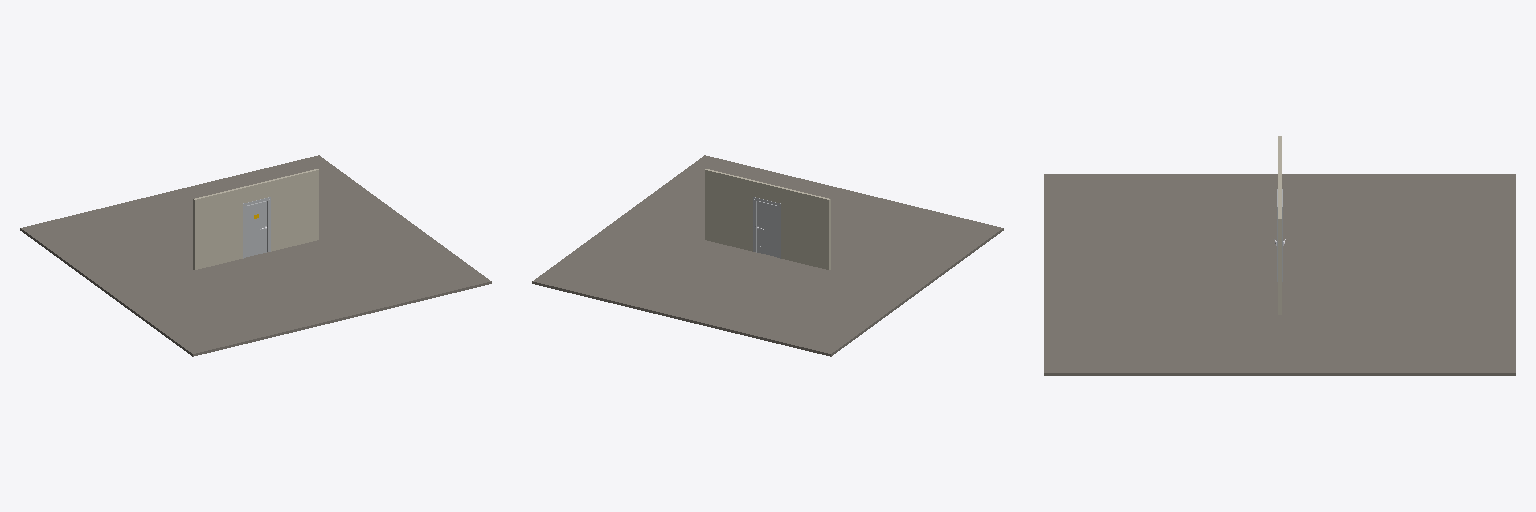
robot.urdf — db0852_cold_storage_full:
<?xml version="1.0" ?>
<robot xmlns:doorbench="https://github.com/adamraudonis/DoorBench/schema/urdf-ext" name="db0852_cold_storage_full">
  <link name="world_env">
    <visual name="floor_vis">
      <origin xyz="0 0 -0.05" rpy="0 0 0"/>
      <geometry>
        <box size="12 12 0.1"/>
      </geometry>
      <material name="mat_floor"/>
    </visual>
    <collision name="floor_col">
      <origin xyz="0 0 -0.05" rpy="0 0 0"/>
      <geometry>
        <box size="12 12 0.1"/>
      </geometry>
    </collision>
    <visual name="wall_left_vis">
      <origin xyz="-1.4925 0 1.35" rpy="0 0 0"/>
      <geometry>
        <box size="2.015 0.1 2.7"/>
      </geometry>
      <material name="mat_wall"/>
    </visual>
    <collision name="wall_left_col">
      <origin xyz="-1.4925 0 1.35" rpy="0 0 0"/>
      <geometry>
        <box size="2.015 0.1 2.7"/>
      </geometry>
    </collision>
    <visual name="wall_right_vis">
      <origin xyz="1.5075 0 1.35" rpy="0 0 0"/>
      <geometry>
        <box size="1.985 0.1 2.7"/>
      </geometry>
      <material name="mat_wall"/>
    </visual>
    <collision name="wall_right_col">
      <origin xyz="1.5075 0 1.35" rpy="0 0 0"/>
      <geometry>
        <box size="1.985 0.1 2.7"/>
      </geometry>
    </collision>
    <visual name="wall_header_vis">
      <origin xyz="0.015 0 2.3875" rpy="0 0 0"/>
      <geometry>
        <box size="1 0.1 0.625"/>
      </geometry>
      <material name="mat_wall"/>
    </visual>
    <collision name="wall_header_col">
      <origin xyz="0.015 0 2.3875" rpy="0 0 0"/>
      <geometry>
        <box size="1 0.1 0.625"/>
      </geometry>
    </collision>
    <visual name="hinge_0_jamb_vis">
      <origin xyz="-0.437 -0.057 0.262" rpy="0 0 0"/>
      <geometry>
        <mesh filename="../../hardware/hinge_jamb_953fb56768.obj"/>
      </geometry>
      <material name="mat_hinge"/>
    </visual>
    <visual name="hinge_1_jamb_vis">
      <origin xyz="-0.437 -0.057 1.7964" rpy="0 0 0"/>
      <geometry>
        <mesh filename="../../hardware/hinge_jamb_953fb56768.obj"/>
      </geometry>
      <material name="mat_hinge"/>
    </visual>
    <visual name="jamb_hinge_vis">
      <origin xyz="-0.4625 0 1" rpy="0 0 0"/>
      <geometry>
        <box size="0.045 0.1 2"/>
      </geometry>
      <material name="mat_frame"/>
    </visual>
    <collision name="jamb_hinge_col">
      <origin xyz="-0.4625 0 1" rpy="0 0 0"/>
      <geometry>
        <box size="0.045 0.1 2"/>
      </geometry>
    </collision>
    <visual name="strike_1000_wall_n_vis">
      <origin xyz="0.4775 0.02875 1" rpy="0 0 0"/>
      <geometry>
        <box size="0.075 0.0425 0.038"/>
      </geometry>
      <material name="mat_frame"/>
    </visual>
    <collision name="strike_1000_wall_n_col">
      <origin xyz="0.4775 0.02875 1" rpy="0 0 0"/>
      <geometry>
        <box size="0.075 0.0425 0.038"/>
      </geometry>
    </collision>
    <visual name="strike_1000_wall_p_vis">
      <origin xyz="0.4775 -0.0155 1" rpy="0 0 0"/>
      <geometry>
        <box size="0.075 0.016 0.038"/>
      </geometry>
      <material name="mat_frame"/>
    </visual>
    <collision name="strike_1000_wall_p_col">
      <origin xyz="0.4775 -0.0155 1" rpy="0 0 0"/>
      <geometry>
        <box size="0.075 0.016 0.038"/>
      </geometry>
    </collision>
    <visual name="strike_1000_ramp_vis">
      <origin xyz="0.480582 -0.041168 1" rpy="0 0 0.149416"/>
      <geometry>
        <box size="0.075 0.047024 0.038"/>
      </geometry>
      <material name="mat_frame"/>
    </visual>
    <collision name="strike_1000_ramp_col">
      <origin xyz="0.480582 -0.041168 1" rpy="0 0 0.149416"/>
      <geometry>
        <box size="0.075 0.047024 0.038"/>
      </geometry>
    </collision>
    <visual name="strike_1000_ramp_n_vis">
      <origin xyz="0.480582 0.029168 1" rpy="0 0 -0.149416"/>
      <geometry>
        <box size="0.075 0.047024 0.038"/>
      </geometry>
      <material name="mat_frame"/>
    </visual>
    <collision name="strike_1000_ramp_n_col">
      <origin xyz="0.480582 0.029168 1" rpy="0 0 -0.149416"/>
      <geometry>
        <box size="0.075 0.047024 0.038"/>
      </geometry>
    </collision>
    <visual name="strike_1000_back_vis">
      <origin xyz="0.4825 0 1" rpy="0 0 0"/>
      <geometry>
        <box size="0.065 0.015 0.038"/>
      </geometry>
      <material name="mat_frame"/>
    </visual>
    <collision name="strike_1000_back_col">
      <origin xyz="0.4825 0 1" rpy="0 0 0"/>
      <geometry>
        <box size="0.065 0.015 0.038"/>
      </geometry>
    </collision>
    <visual name="jamb_strike_0_vis">
      <origin xyz="0.4775 0 0.4905" rpy="0 0 0"/>
      <geometry>
        <box size="0.075 0.1 0.981"/>
      </geometry>
      <material name="mat_frame"/>
    </visual>
    <collision name="jamb_strike_0_col">
      <origin xyz="0.4775 0 0.4905" rpy="0 0 0"/>
      <geometry>
        <box size="0.075 0.1 0.981"/>
      </geometry>
    </collision>
    <visual name="jamb_strike_1_vis">
      <origin xyz="0.4775 0 1.5095" rpy="0 0 0"/>
      <geometry>
        <box size="0.075 0.1 0.981"/>
      </geometry>
      <material name="mat_frame"/>
    </visual>
    <collision name="jamb_strike_1_col">
      <origin xyz="0.4775 0 1.5095" rpy="0 0 0"/>
      <geometry>
        <box size="0.075 0.1 0.981"/>
      </geometry>
    </collision>
    <visual name="jamb_head_vis">
      <origin xyz="0.015 0 2.0225" rpy="0 0 0"/>
      <geometry>
        <box size="1 0.1 0.045"/>
      </geometry>
      <material name="mat_frame"/>
    </visual>
    <collision name="jamb_head_col">
      <origin xyz="0.015 0 2.0225" rpy="0 0 0"/>
      <geometry>
        <box size="1 0.1 0.045"/>
      </geometry>
    </collision>
    <visual name="head_stud_vis">
      <origin xyz="0.015 0 2.06" rpy="0 0 0"/>
      <geometry>
        <box size="1 0.1 0.03"/>
      </geometry>
      <material name="mat_wall"/>
    </visual>
    <collision name="head_stud_col">
      <origin xyz="0.015 0 2.06" rpy="0 0 0"/>
      <geometry>
        <box size="1 0.1 0.03"/>
      </geometry>
    </collision>
    <visual name="stop_hinge_vis">
      <origin xyz="-0.4345 0.0665 1" rpy="0 0 0"/>
      <geometry>
        <box size="0.011 0.032 2"/>
      </geometry>
      <material name="mat_frame"/>
    </visual>
    <collision name="stop_hinge_col">
      <origin xyz="-0.4345 0.0665 1" rpy="0 0 0"/>
      <geometry>
        <box size="0.011 0.032 2"/>
      </geometry>
    </collision>
    <visual name="stop_strike_vis">
      <origin xyz="0.4345 0.0665 1" rpy="0 0 0"/>
      <geometry>
        <box size="0.011 0.032 2"/>
      </geometry>
      <material name="mat_frame"/>
    </visual>
    <collision name="stop_strike_col">
      <origin xyz="0.4345 0.0665 1" rpy="0 0 0"/>
      <geometry>
        <box size="0.011 0.032 2"/>
      </geometry>
    </collision>
    <visual name="stop_head_vis">
      <origin xyz="0 0.0665 1.9945" rpy="0 0 0"/>
      <geometry>
        <box size="0.88 0.032 0.011"/>
      </geometry>
      <material name="mat_frame"/>
    </visual>
    <collision name="stop_head_col">
      <origin xyz="0 0.0665 1.9945" rpy="0 0 0"/>
      <geometry>
        <box size="0.88 0.032 0.011"/>
      </geometry>
    </collision>
    <visual name="seal_hinge_vis">
      <origin xyz="-0.437 0.055 1" rpy="0 0 0"/>
      <geometry>
        <box size="0.008 0.01 2"/>
      </geometry>
      <material name="mat_seal"/>
    </visual>
    <visual name="seal_strike_vis">
      <origin xyz="0.437 0.055 1" rpy="0 0 0"/>
      <geometry>
        <box size="0.008 0.01 2"/>
      </geometry>
      <material name="mat_seal"/>
    </visual>
    <visual name="seal_head_vis">
      <origin xyz="0 0.055 1.988" rpy="0 0 0"/>
      <geometry>
        <box size="0.84 0.01 0.016"/>
      </geometry>
      <material name="mat_seal"/>
    </visual>
    <visual name="casing_l_n_vis">
      <origin xyz="-0.515 -0.058 1" rpy="0 0 0"/>
      <geometry>
        <box size="0.07 0.016 2.045"/>
      </geometry>
      <material name="mat_frame"/>
    </visual>
    <visual name="casing_r_n_vis">
      <origin xyz="0.515 -0.058 1" rpy="0 0 0"/>
      <geometry>
        <box size="0.07 0.016 2.045"/>
      </geometry>
      <material name="mat_frame"/>
    </visual>
    <visual name="casing_h_n_vis">
      <origin xyz="0 -0.058 2.075" rpy="0 0 0"/>
      <geometry>
        <box size="1.1 0.016 0.07"/>
      </geometry>
      <material name="mat_frame"/>
    </visual>
    <visual name="casing_l_p_vis">
      <origin xyz="-0.515 0.058 1" rpy="0 0 0"/>
      <geometry>
        <box size="0.07 0.016 2.045"/>
      </geometry>
      <material name="mat_frame"/>
    </visual>
    <visual name="casing_r_p_vis">
      <origin xyz="0.515 0.058 1" rpy="0 0 0"/>
      <geometry>
        <box size="0.07 0.016 2.045"/>
      </geometry>
      <material name="mat_frame"/>
    </visual>
    <visual name="casing_h_p_vis">
      <origin xyz="0 0.058 2.075" rpy="0 0 0"/>
      <geometry>
        <box size="1.1 0.016 0.07"/>
      </geometry>
      <material name="mat_frame"/>
    </visual>
  </link>
  <link name="leaf_riser">
    <inertial>
      <origin xyz="0.003 -0.057 0.055" rpy="0 0 0"/>
      <mass value="0.174012"/>
      <inertia ixx="0.00002732" ixy="0" ixz="0" iyy="0.00002732" iyz="0" izz="0.000017053"/>
    </inertial>
    <visual name="leaf_riser_marker_vis">
      <origin xyz="0.003 -0.057 0.055" rpy="0 0 0"/>
      <geometry>
        <cylinder radius="0.014" length="0.036"/>
      </geometry>
      <material name="mat_hinge"/>
    </visual>
  </link>
  <link name="leaf">
    <inertial>
      <origin xyz="0.412167 0.057822 0.946435" rpy="0 0 0"/>
      <mass value="40.829812"/>
      <inertia ixx="14.499900397" ixy="-0.037367119" ixz="0.060262156" iyy="17.147012135" iyz="0.106824101" izz="2.730307981"/>
    </inertial>
    <visual name="leaf_slab_vis">
      <origin xyz="0.43 0.057 0.9942" rpy="0 0 0"/>
      <geometry>
        <box size="0.86 0.1 1.9644"/>
      </geometry>
      <material name="mat_leaf"/>
    </visual>
    <collision name="leaf_slab_col">
      <origin xyz="0.43 0.057 0.9942" rpy="0 0 0"/>
      <geometry>
        <box size="0.86 0.1 1.9644"/>
      </geometry>
    </collision>
    <visual name="hinge_0_vis">
      <origin xyz="0 0 0.262" rpy="0 0 0"/>
      <geometry>
        <mesh filename="../../hardware/hinge_05d9a38dfa.obj"/>
      </geometry>
      <material name="mat_hinge"/>
    </visual>
    <visual name="hinge_1_vis">
      <origin xyz="0 0 1.7964" rpy="0 0 0"/>
      <geometry>
        <mesh filename="../../hardware/hinge_05d9a38dfa.obj"/>
      </geometry>
      <material name="mat_hinge"/>
    </visual>
    <visual name="kick_plate_p_vis">
      <origin xyz="0.43 0.1078 0.147" rpy="0 0 0"/>
      <geometry>
        <box size="0.8 0.0016 0.25"/>
      </geometry>
      <material name="mat_kick"/>
    </visual>
    <visual name="warning_placard_vis">
      <origin xyz="0.43 0.006 1.4853" rpy="0 0 0"/>
      <geometry>
        <box size="0.22 0.002 0.16"/>
      </geometry>
      <material name="mat_placard"/>
    </visual>
  </link>
  <link name="leaf_handle">
    <inertial>
      <origin xyz="-0.046153 0 0" rpy="0 0 0"/>
      <mass value="2.987827"/>
      <inertia ixx="0.023746754" ixy="0" ixz="0" iyy="0.018437997" iyz="0" izz="0.040214564"/>
    </inertial>
    <visual name="leaf_handle_spindle_vis">
      <origin xyz="0 0 0" rpy="-1.570796 0 0"/>
      <geometry>
        <cylinder radius="0.006" length="0.116"/>
      </geometry>
      <material name="mat_op_chrome"/>
    </visual>
    <visual name="leaf_handle_lever_n_vis">
      <origin xyz="0 -0.05 0" rpy="1.570796 0 0"/>
      <geometry>
        <mesh filename="../../hardware/lever_40740b93f7.obj"/>
      </geometry>
      <material name="mat_op_chrome"/>
    </visual>
    <collision name="leaf_handle_lever_col_n_col">
      <origin xyz="-0.125 -0.105 0" rpy="0 -1.570796 0"/>
      <geometry>
        <cylinder radius="0.0095" length="0.231"/>
      </geometry>
    </collision>
    <collision name="leaf_handle_hub_col_n_col">
      <origin xyz="0 -0.08 0" rpy="-1.570796 0 0"/>
      <geometry>
        <cylinder radius="0.012" length="0.044"/>
      </geometry>
    </collision>
    <visual name="leaf_handle_lever_p_vis">
      <origin xyz="0 0.05 0" rpy="-1.570796 0 0"/>
      <geometry>
        <mesh filename="../../hardware/lever_40740b93f7.obj"/>
      </geometry>
      <material name="mat_op_chrome"/>
    </visual>
    <collision name="leaf_handle_lever_col_p_col">
      <origin xyz="-0.125 0.105 0" rpy="0 -1.570796 0"/>
      <geometry>
        <cylinder radius="0.0095" length="0.231"/>
      </geometry>
    </collision>
    <collision name="leaf_handle_hub_col_p_col">
      <origin xyz="0 0.08 0" rpy="-1.570796 0 0"/>
      <geometry>
        <cylinder radius="0.012" length="0.044"/>
      </geometry>
    </collision>
  </link>
  <link name="leaf_latch_bolt">
    <inertial>
      <origin xyz="-0.012 0 0" rpy="0 0 0"/>
      <mass value="0.030762"/>
      <inertia ixx="0.000000526" ixy="0" ixz="0" iyy="0.000002949" iyz="0" izz="0.000002949"/>
    </inertial>
    <visual name="leaf_latch_bolt_capsule_vis">
      <origin xyz="-0.012 0 0" rpy="0 1.570796 0"/>
      <geometry>
        <cylinder radius="0.006" length="0.024"/>
      </geometry>
      <material name="mat_bolt"/>
    </visual>
    <collision name="leaf_latch_bolt_capsule_col">
      <origin xyz="-0.012 0 0" rpy="0 1.570796 0"/>
      <geometry>
        <cylinder radius="0.006" length="0.024"/>
      </geometry>
    </collision>
  </link>
  <joint name="leaf_rise" type="prismatic">
    <origin xyz="-0.44 0 0" rpy="0 0 0"/>
    <parent link="world_env"/>
    <child link="leaf_riser"/>
    <axis xyz="0 0 1"/>
    <limit lower="0" upper="0.0264" effort="5000" velocity="10"/>
    <dynamics damping="1" friction="0"/>
    <mimic joint="leaf_hinge" multiplier="0.007639" offset="0"/>
  </joint>
  <joint name="leaf_hinge" type="revolute">
    <origin xyz="0.003 -0.057 0" rpy="0 0 0"/>
    <parent link="leaf_riser"/>
    <child link="leaf"/>
    <axis xyz="0 0 -1"/>
    <limit lower="0" upper="1.919862" effort="2000" velocity="10"/>
    <dynamics damping="0.245604" friction="3.598128"/>
    <doorbench:closer damping_closing="0" damping_opening="0" backcheck_angle="0" backcheck_damping="0"/>
    <doorbench:note text="rising hinge: gravity closing torque ~ m*g*0.0076 N*m/rad"/>
  </joint>
  <joint name="leaf_handle_hinge" type="revolute">
    <origin xyz="0.795 0.057 1" rpy="0 0 0"/>
    <parent link="leaf"/>
    <child link="leaf_handle"/>
    <axis xyz="0 -1 0"/>
    <limit lower="0" upper="0.5" effort="2000" velocity="10"/>
    <dynamics damping="0.589936" friction="0.07"/>
    <doorbench:spring stiffness="2.5" springref="-0.96" note="tau = -stiffness*(q - springref); not native URDF"/>
  </joint>
  <joint name="leaf_latch_bolt_slide" type="prismatic">
    <origin xyz="0.86 0.057 1" rpy="0 0 0"/>
    <parent link="leaf"/>
    <child link="leaf_latch_bolt"/>
    <axis xyz="-1 0 0"/>
    <limit lower="0" upper="0.006" effort="5000" velocity="10"/>
    <dynamics damping="2" friction="0.3"/>
    <doorbench:spring stiffness="3000" springref="-0.004" note="tau = -stiffness*(q - springref); not native URDF"/>
    <mimic joint="leaf_handle_hinge" multiplier="0.012766" offset="0"/>
    <doorbench:coupling one_sided="true" note="MJCF uses a one-sided tendon (bolt may retract further, e.g. riding over the strike lip); mimic is bilateral"/>
  </joint>
  <material name="mat_bolt">
    <color rgba="0.75 0.76 0.77 1"/>
  </material>
  <material name="mat_floor">
    <color rgba="0.55 0.53 0.5 1"/>
  </material>
  <material name="mat_frame">
    <color rgba="0.75 0.76 0.77 1"/>
  </material>
  <material name="mat_hinge">
    <color rgba="0.55 0.56 0.58 1"/>
  </material>
  <material name="mat_kick">
    <color rgba="0.75 0.76 0.77 1"/>
  </material>
  <material name="mat_leaf">
    <color rgba="0.75 0.76 0.77 1"/>
  </material>
  <material name="mat_op_chrome">
    <color rgba="0.9 0.9 0.92 1"/>
  </material>
  <material name="mat_placard">
    <color rgba="0.95 0.75 0.05 1"/>
  </material>
  <material name="mat_seal">
    <color rgba="0.1 0.1 0.1 1"/>
  </material>
  <material name="mat_wall">
    <color rgba="0.78 0.76 0.7 1"/>
  </material>
</robot>

--- Facts derived from the render (not from the file) ---
The picture shows the robot from 3 angles, left to right: view 1: azimuth 30°, elevation 25°; view 2: azimuth 150°, elevation 25°; view 3: azimuth 270°, elevation 25°; orthographic projection.
Robot: db0852_cold_storage_full — 5 links, 4 joints (2 revolute, 2 prismatic); root link world_env; default pose: every joint at zero.
Links seen in each view (by area): view 1: world_env, leaf; view 2: world_env, leaf; view 3: world_env.
Link boxes in pixels (x1,y1,x2,y2): world_env: [20, 155, 491, 356]; leaf: [246, 201, 266, 256]; world_env: [532, 155, 1003, 356]; leaf: [757, 201, 776, 256]; world_env: [1044, 136, 1515, 375].
Size in the robot's own frame: 12 by 12 by 2.8 metres.
6 mesh visuals loaded from 3 distinct referenced files (3 OBJ).
